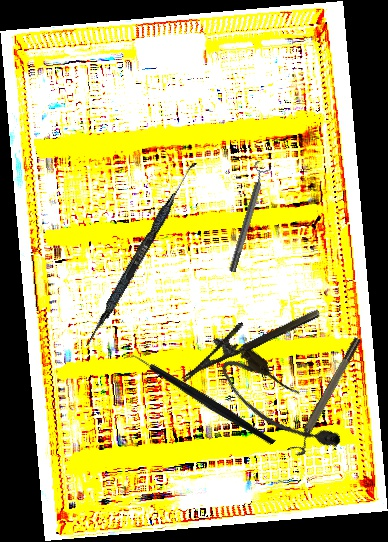Cannula: (212, 341, 349, 469)
Chopper: (120, 314, 277, 487)
Fixation Ring: (287, 335, 368, 459), (222, 159, 274, 275)
Needle Holder: (170, 290, 322, 383)
Spatula Surgical: (83, 157, 198, 351)
